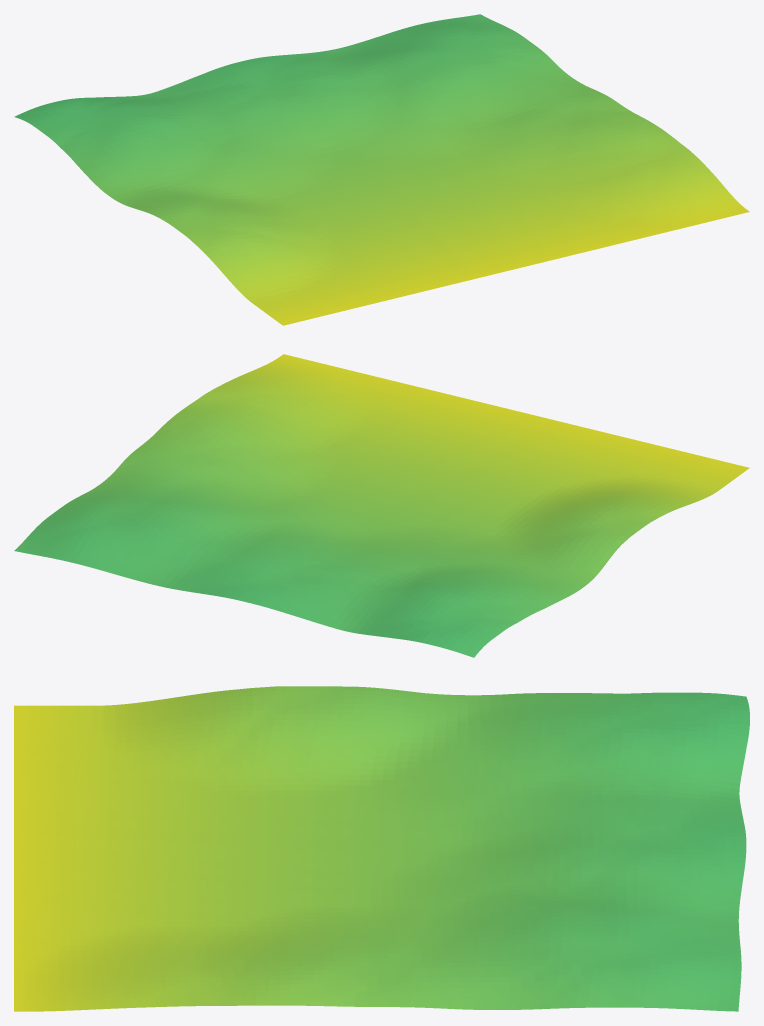
Rendered from Ground.fbx.
The picture shows the model from 3 angles, top to bottom: view 1: azimuth 30°, elevation 25°; view 2: azimuth 150°, elevation 25°; view 3: azimuth 270°, elevation 25°; orthographic projection. The views are drawn at different scales.
Parts seen in each view (by area): view 1: Plane; view 2: Plane; view 3: Plane.
Part boxes in pixels (box(x1,y1,x2,y2)): Plane: box(14, 14, 749, 325); Plane: box(14, 354, 749, 657); Plane: box(14, 686, 749, 1011).
Bounding box in the file's own units: 46561 × 1717 × 46014.
